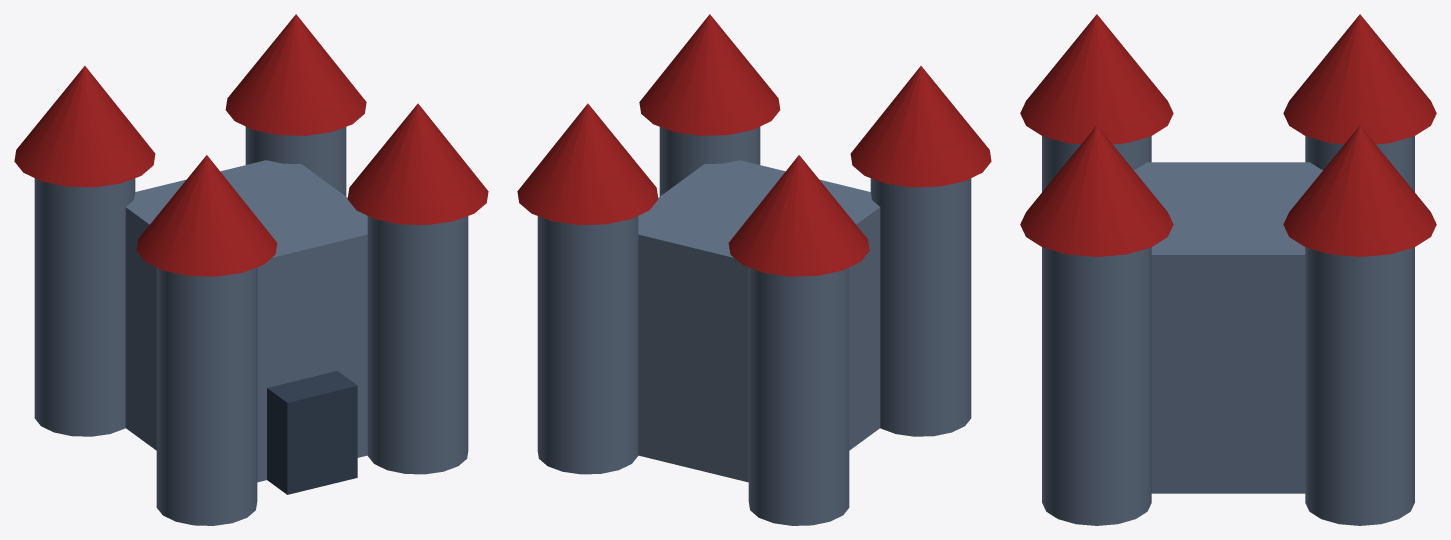
3 views of the same model, side by side, from view 1: azimuth 30°, elevation 25°; view 2: azimuth 150°, elevation 25°; view 3: azimuth 270°, elevation 25° (orthographic). The views are drawn at different scales.
Bounding box in the file's own units: 1.9 × 1.9 × 1.9.
